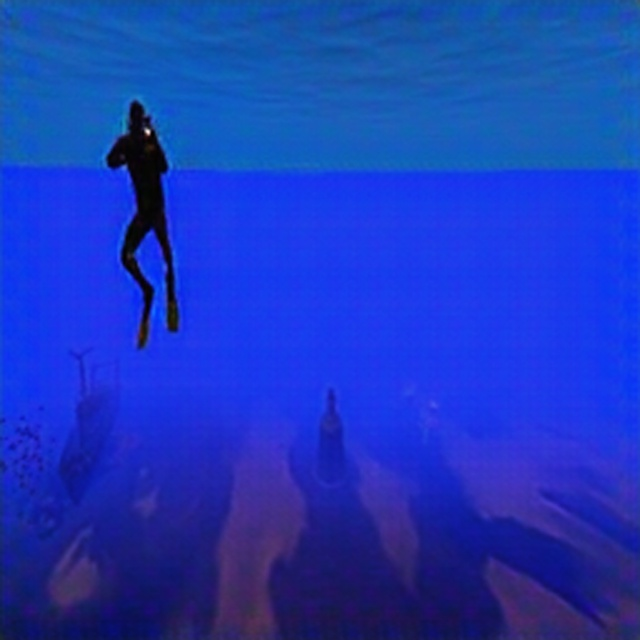diver: (105, 98, 179, 350)
